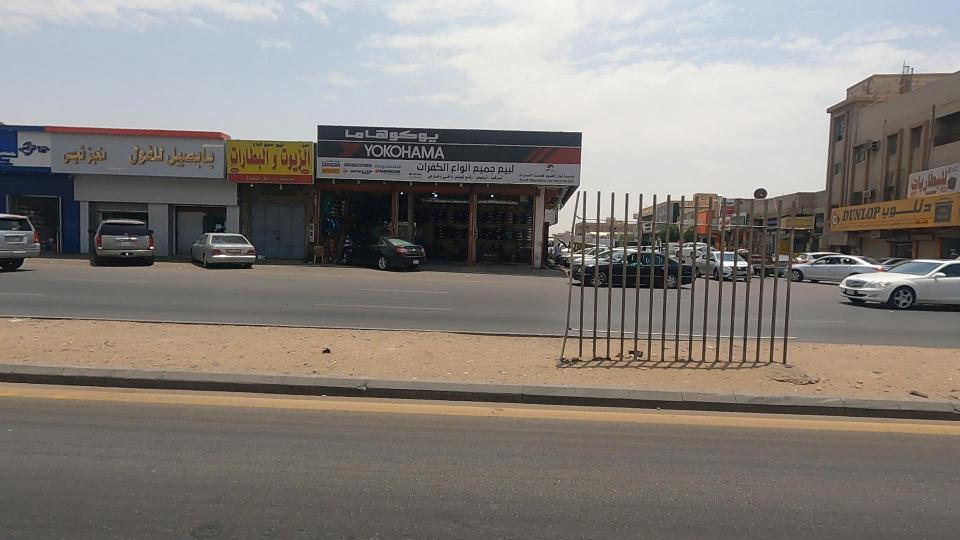CLUTTER_SIDEWALK: (4, 298, 440, 422), (273, 297, 653, 415), (658, 320, 960, 419)
